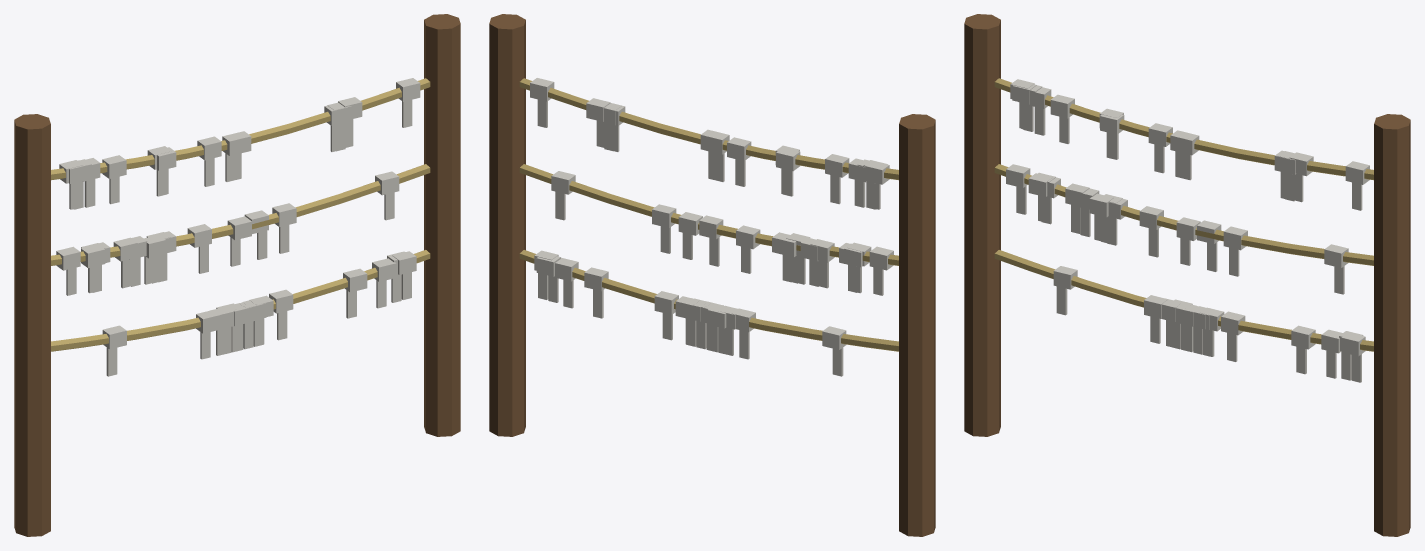
Rendered from Shrine_Omikuji.fbx.
3 renders of one model, left to right at view 1: azimuth 30°, elevation 25°; view 2: azimuth 150°, elevation 25°; view 3: azimuth 330°, elevation 25°, orthographic.
Parts seen in each view (by area): view 1: Shrine_Omikuji; view 2: Shrine_Omikuji; view 3: Shrine_Omikuji.
Part boxes in pixels (x1,y1,x2,y2): Shrine_Omikuji: [14, 14, 460, 536]; Shrine_Omikuji: [489, 14, 935, 536]; Shrine_Omikuji: [964, 14, 1410, 536].
Bounding box in the file's own units: 10.8 × 9.5 × 0.8.
